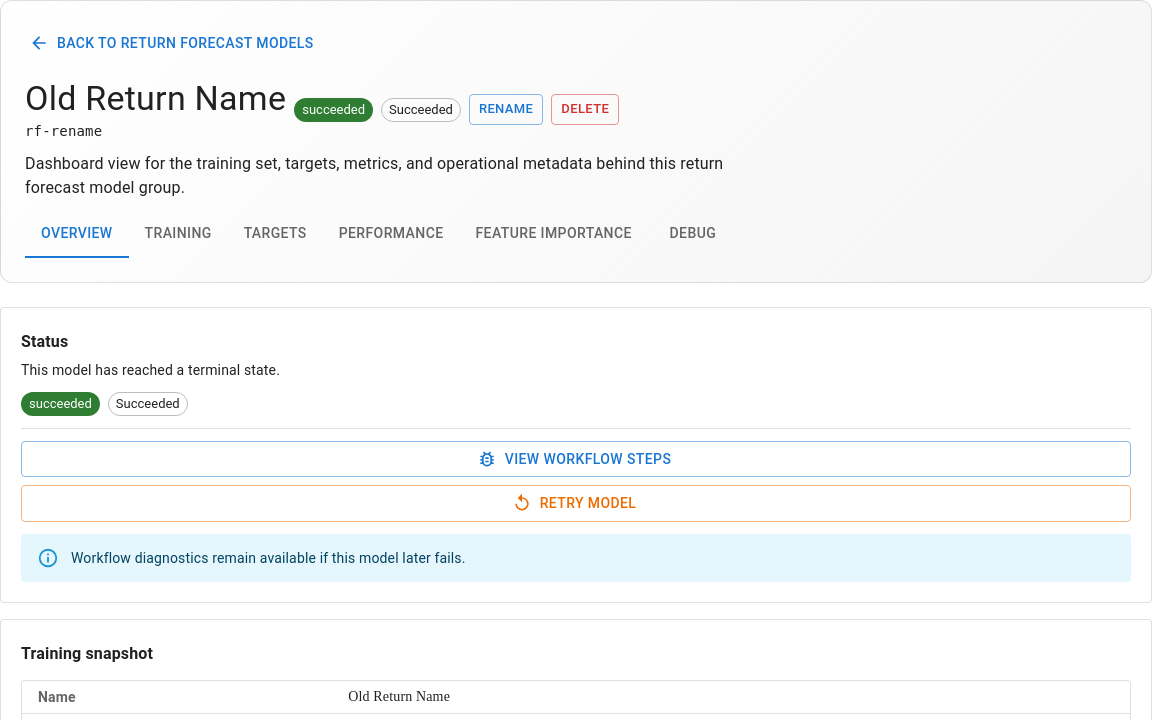
Test: ReturnForecastModelDetailPage › renames an existing model from the detail page
This screenshot has width=1152, height=720.
Expected: the heading "Old Return Name" is shown, [25,78,286,120]
Click the button "Rename" at (506, 110), box [469,94,543,125]
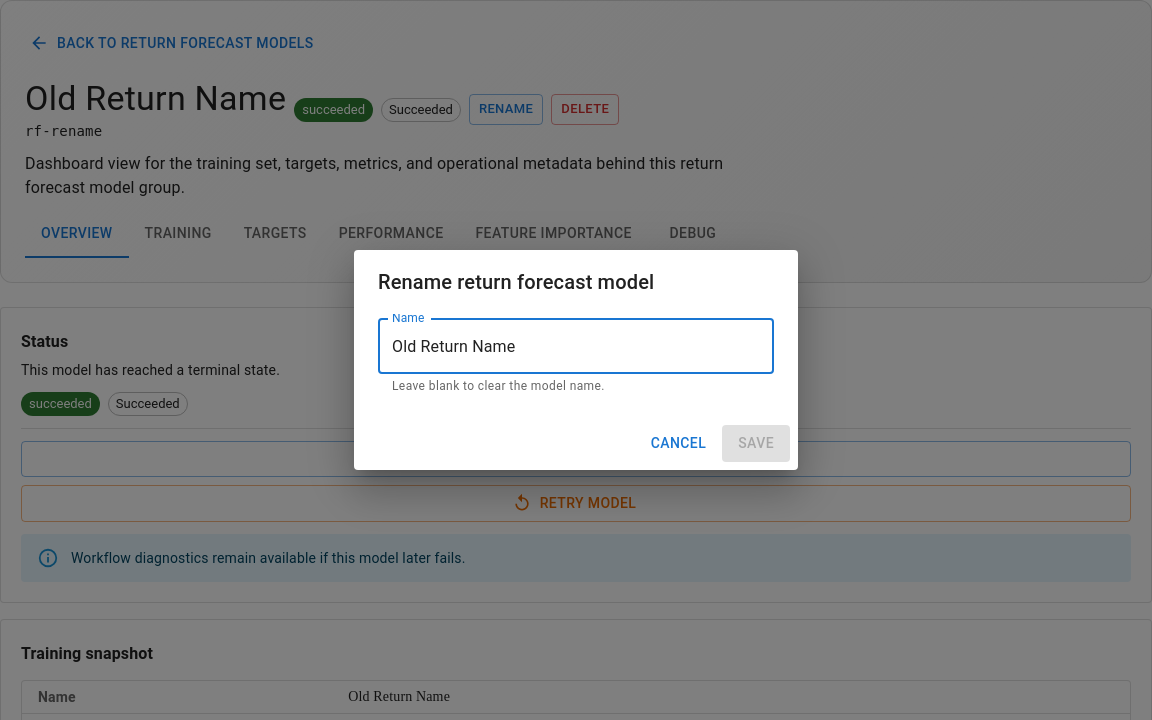
Replace the text in the field labelled "Name" with "Renamed Return Forecast" at (576, 346), box [378,318,774,374]
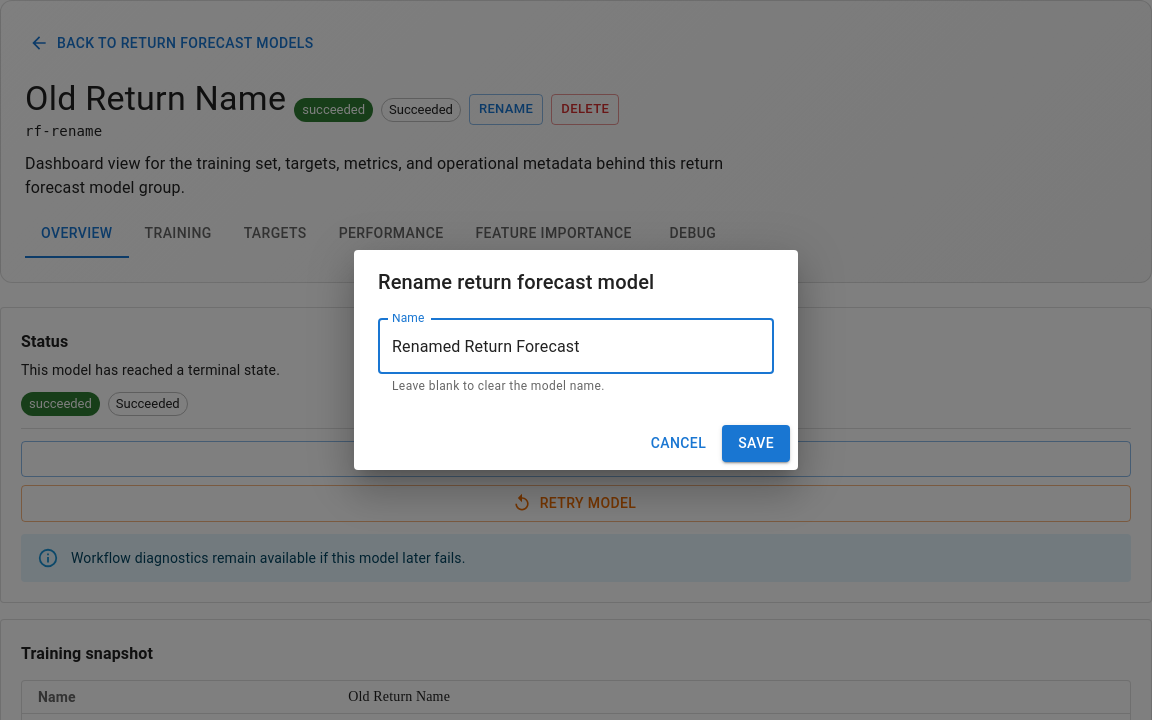
Click the button "Save" at (756, 443), box [722,425,790,462]
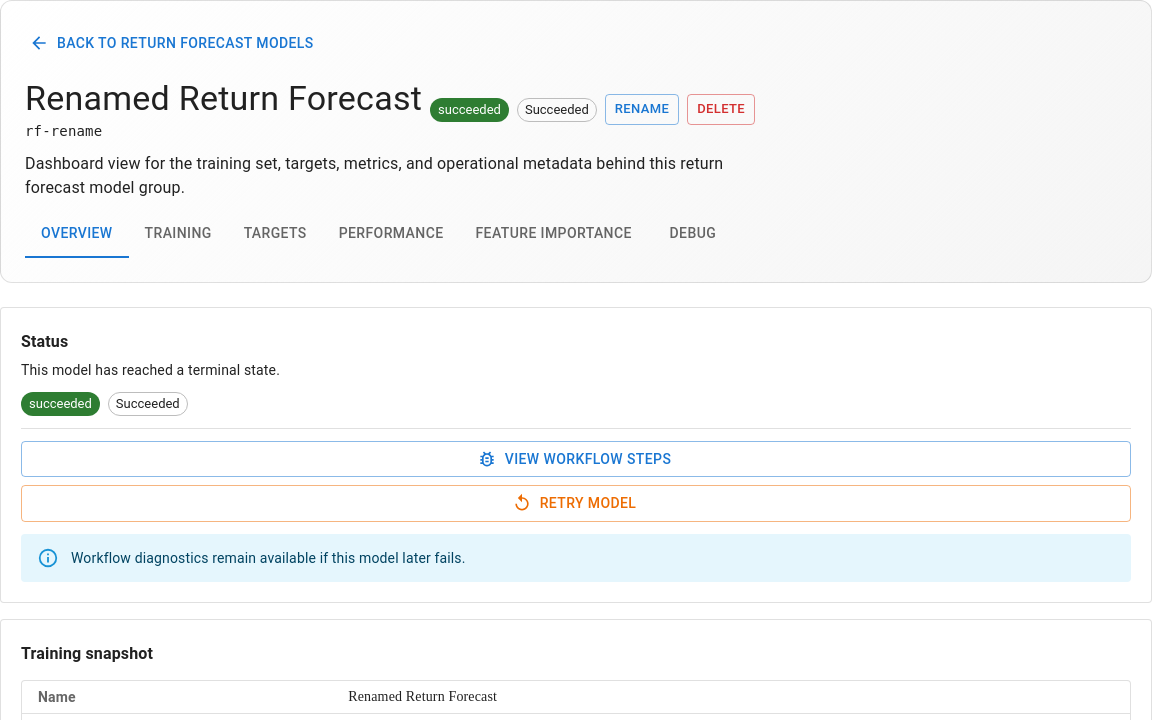
Now the heading "Renamed Return Forecast" is shown, box [25,78,422,120]
